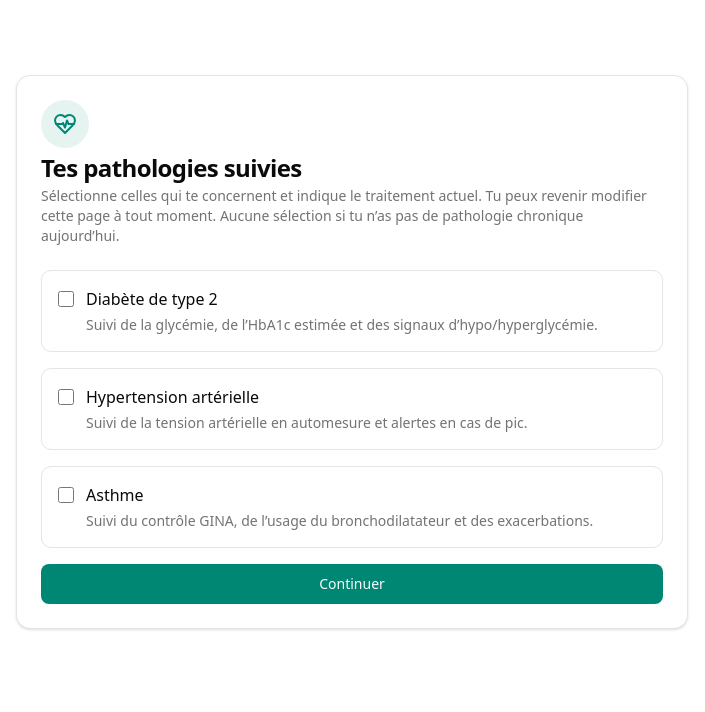
it: <PathologiesPage /> › reveals the diabetes profile picker when the toggle is checked
Click the checkbox named "Activer Diabète de type 2": click(66, 299) x1=58 y1=291 x2=74 y2=307
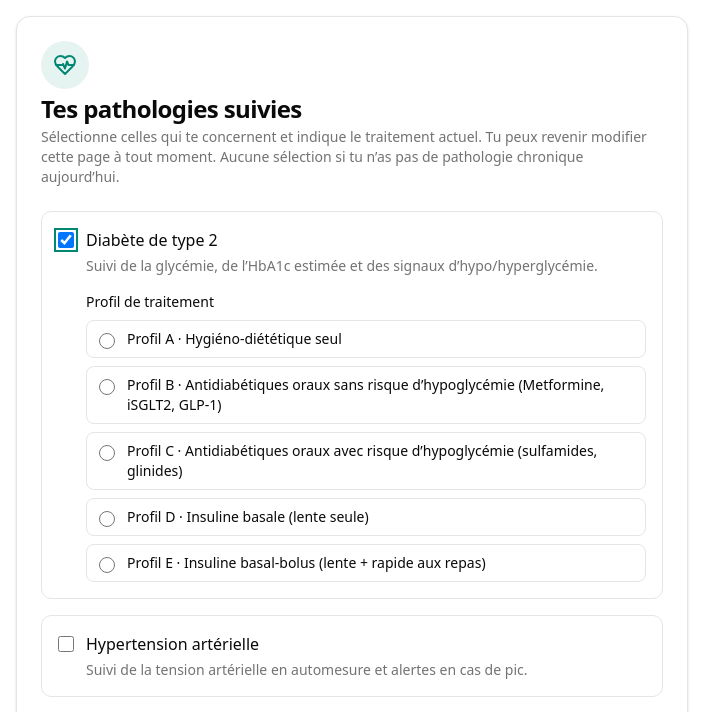
Now the text "Profil A · Hygiéno-diététique seul" is shown, box x1=86 y1=320 x2=646 y2=358
Now the text "Profil E · Insuline basal-bolus (lente + rapide aux repas)" is shown, box x1=86 y1=544 x2=646 y2=582
